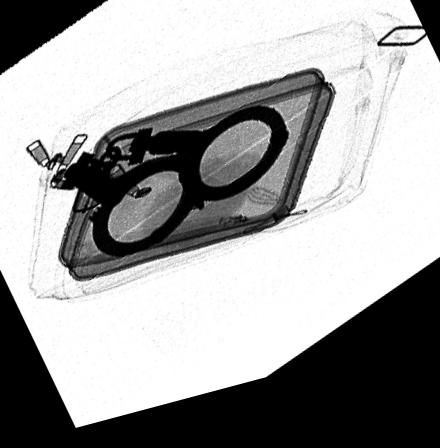HandCuffs: (63, 118, 292, 264)
